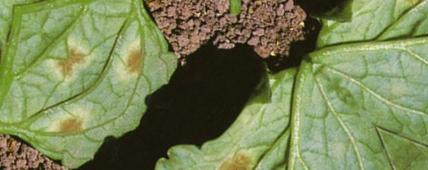Tomato mold leaf: (161, 32, 426, 170), (2, 0, 218, 126)
